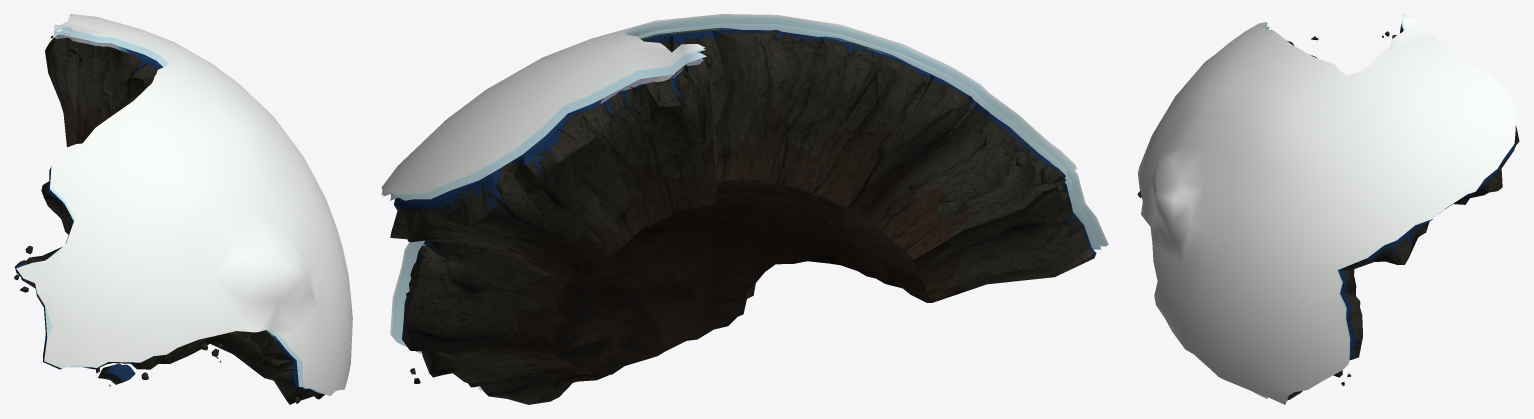
The model's file is Piece 3.fbx.
3 views of the same model, side by side, from view 1: azimuth 30°, elevation 25°; view 2: azimuth 150°, elevation 25°; view 3: azimuth 270°, elevation 25° (orthographic). The views are drawn at different scales.
Visible parts, largest first — view 1: Piece_3; view 2: Piece_3; view 3: Piece_3.
Part boxes in pixels (box(x1,y1,x2,y2)): Piece_3: box(14, 14, 352, 404); Piece_3: box(381, 14, 1108, 404); Piece_3: box(1137, 14, 1519, 404).
Size of the model in its own units: 7503 by 6309 by 7226.
